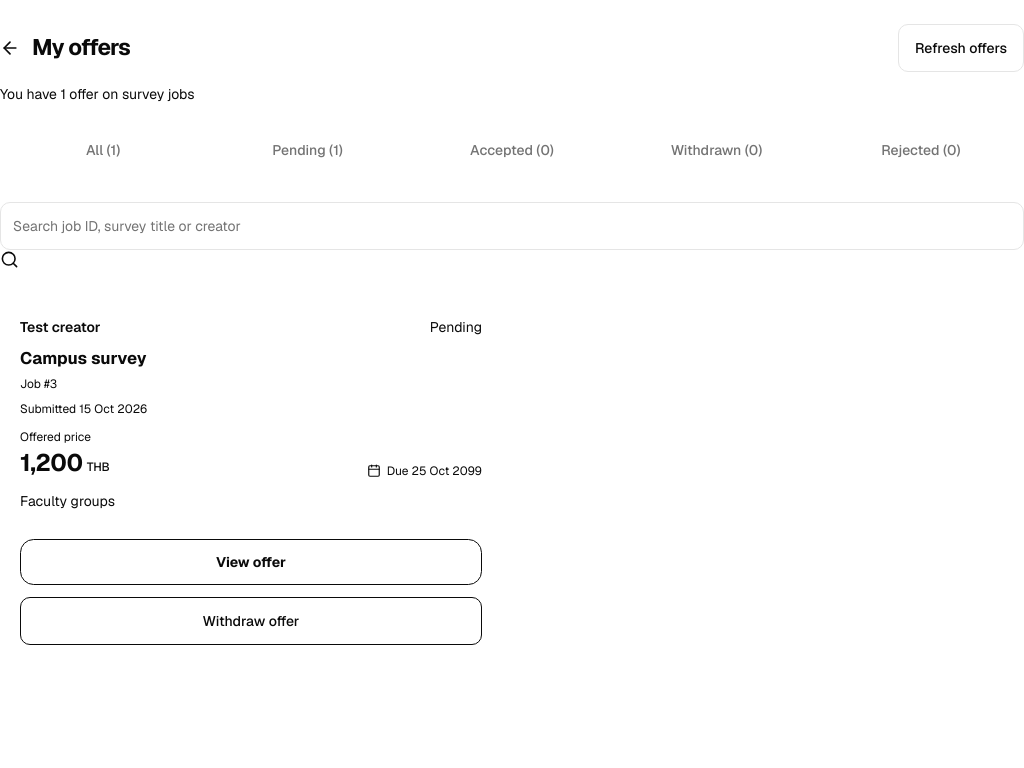
it: MyOffersPage › blocks uncertain outcomes until a complete refresh succeeds, preserving known offers
Click the button "Withdraw offer": (251, 621) [20,597,482,645]
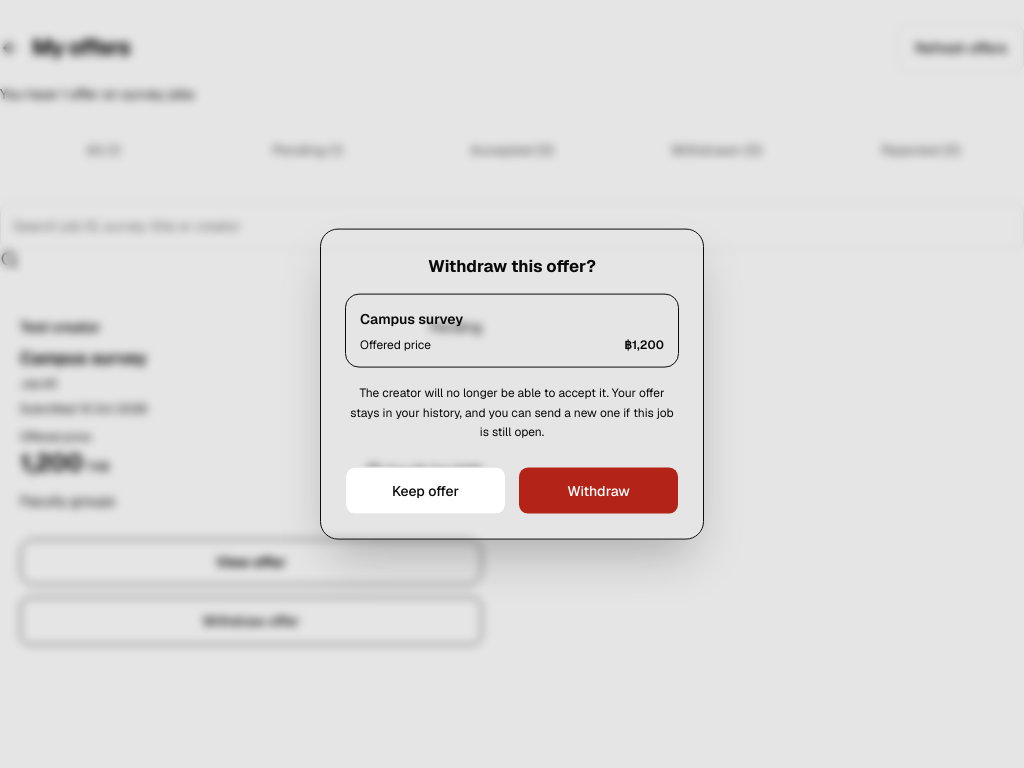
Click the button "Withdraw": (598, 490) [518,466,679,514]
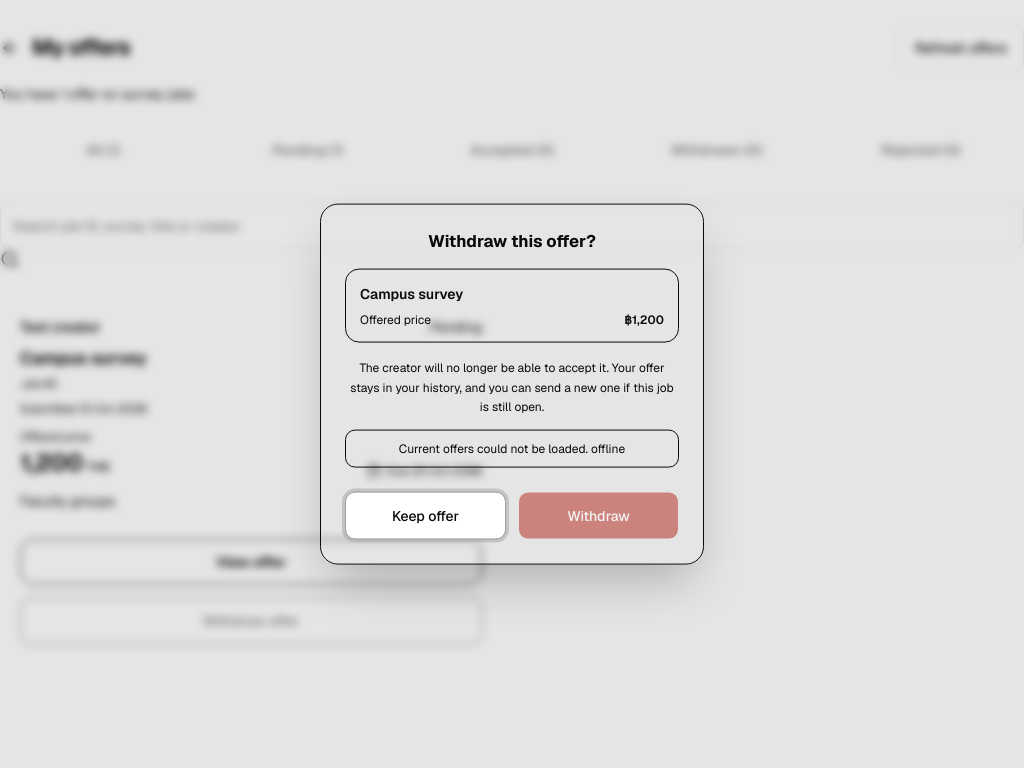
Expected: the text "Current offers could not be loaded. offline" is shown, [345,429,679,467]
Click the button "Keep offer": (426, 515) [345,491,506,539]
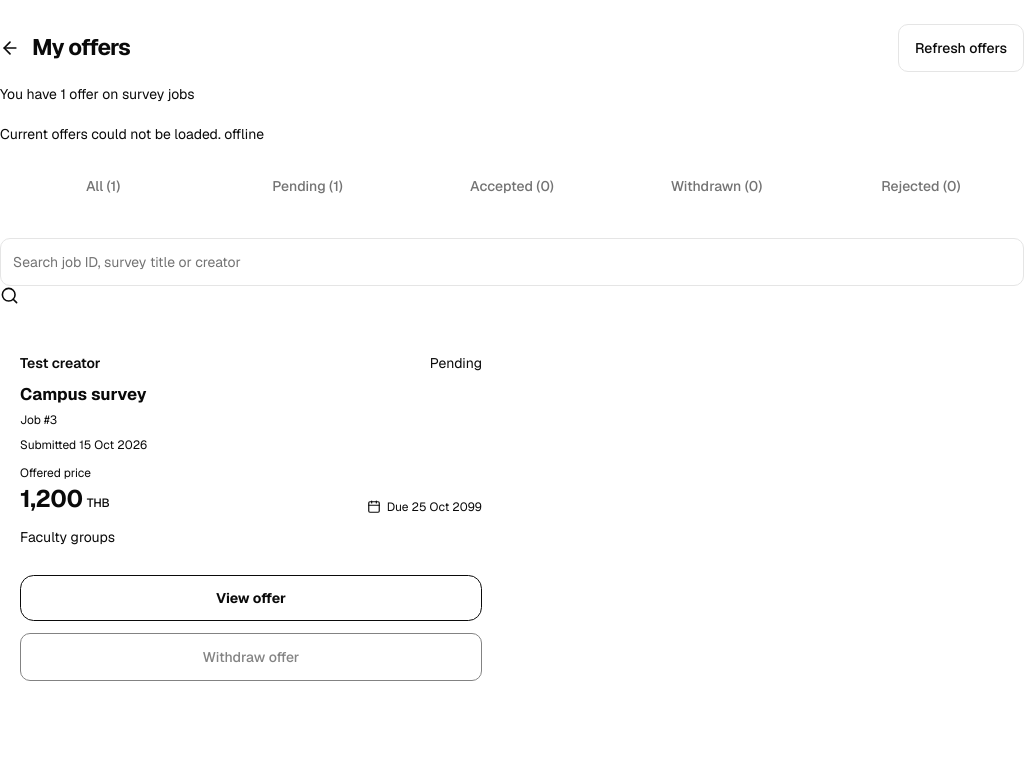
Expected: the button "Withdraw offer" is disabled, [20,633,482,681]
Click the button "Refresh offers": (961, 48) [898,24,1023,72]
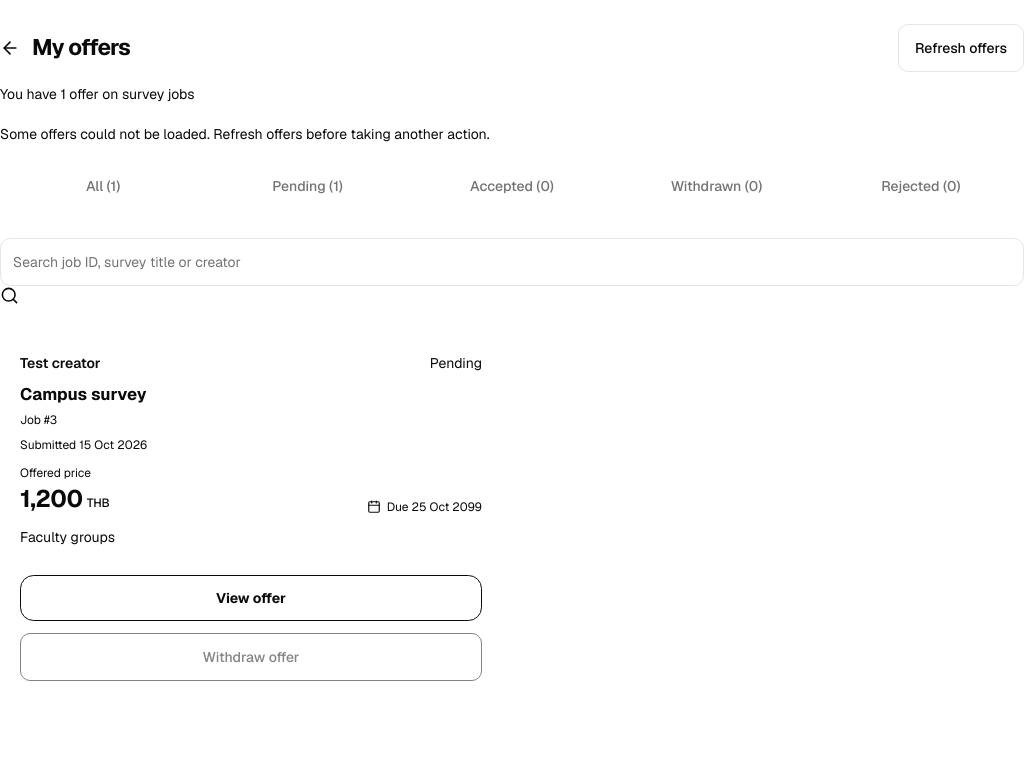
Expected: the element with test id "my-offer-card-201" is shown, [0,333,502,701]
Expected: the button "Withdraw offer" is disabled, [20,633,482,681]
Expected: the text "Some offers could not be loaded. Refresh offers before taking another action." is shown, [0,125,490,143]
Click the button "Refresh offers": (961, 48) [898,24,1023,72]
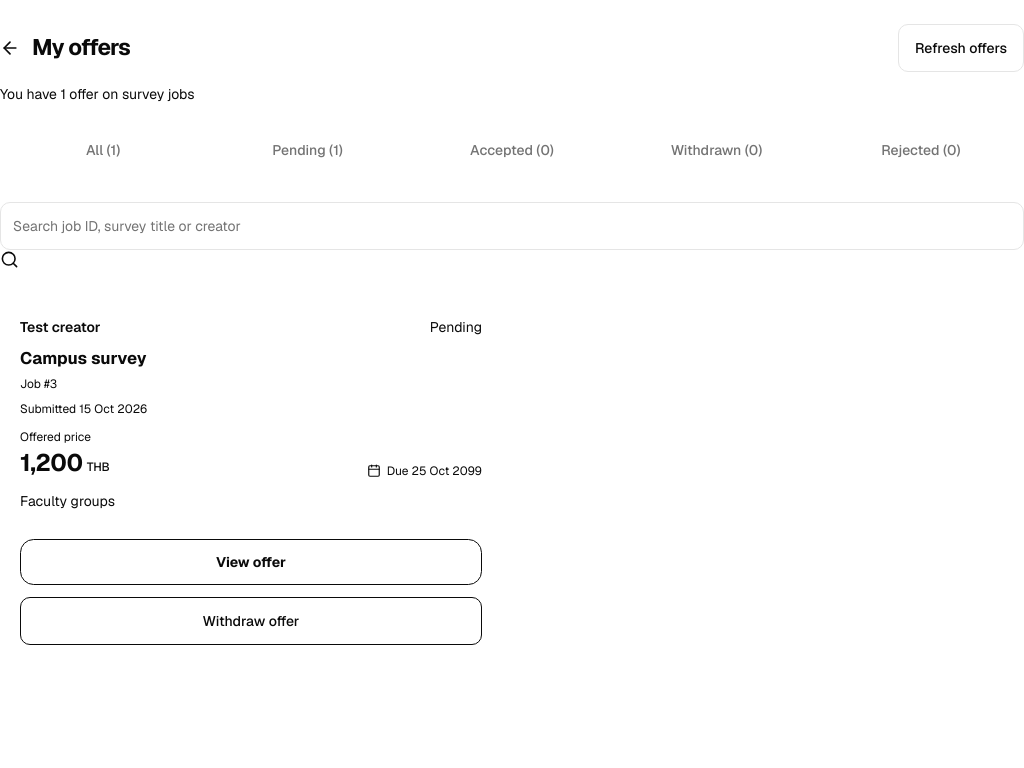
Expected: the button "Withdraw offer" is enabled, [20,597,482,645]
